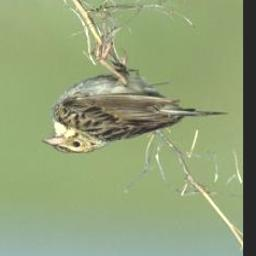Sparrow: (32, 36, 232, 161)
